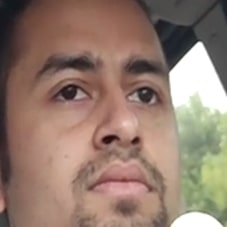awake: (27, 46, 173, 214)
